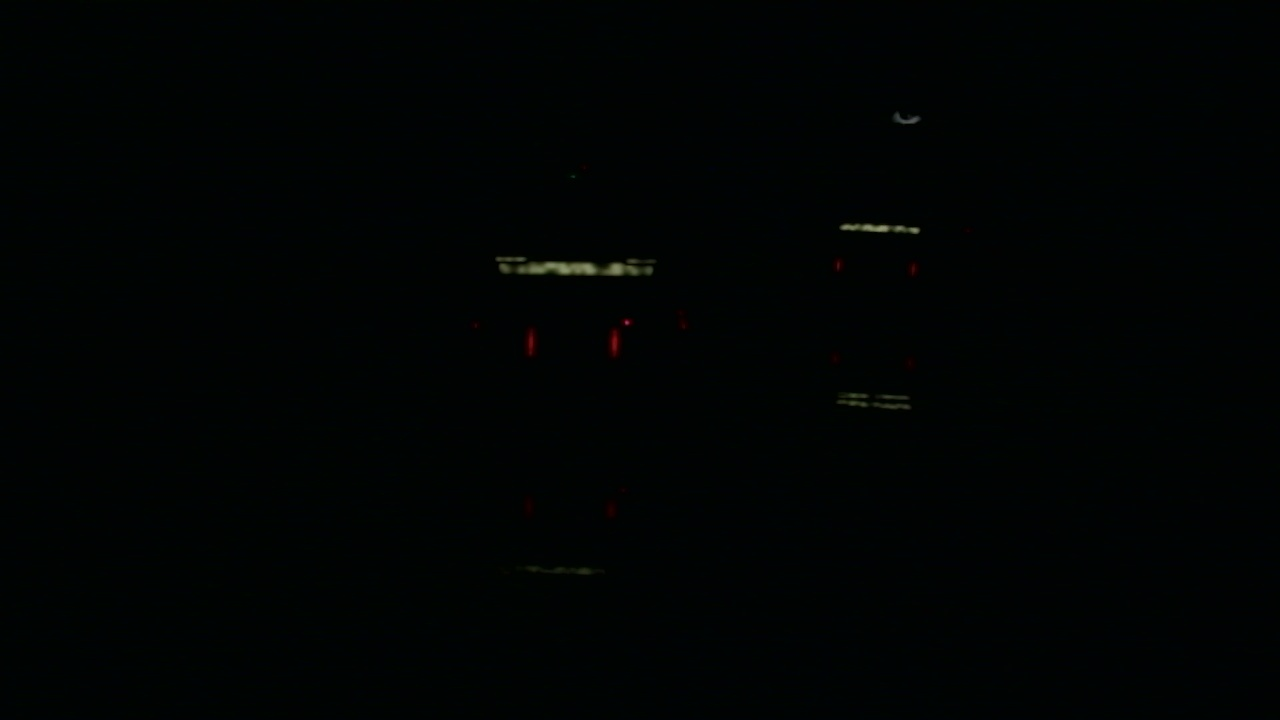lamp: (523, 326, 534, 359), (609, 327, 618, 356), (911, 258, 924, 277), (830, 259, 837, 277)
pair1: (526, 328, 618, 357)
pair2: (831, 258, 921, 278)
